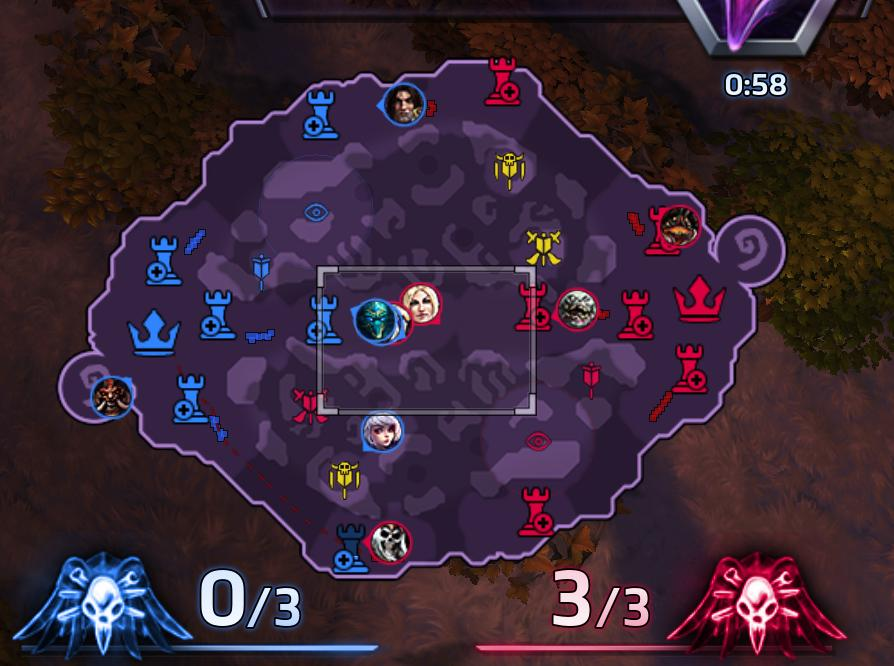blue nexus: (126, 306, 181, 356)
blue player: (352, 298, 407, 346), (377, 81, 426, 128), (91, 374, 133, 420), (360, 410, 403, 452)
blue tower: (328, 514, 372, 582), (168, 371, 214, 429), (143, 233, 184, 287), (198, 287, 237, 341), (304, 292, 343, 346), (301, 87, 339, 141)
red nexus: (671, 274, 725, 324)
red player: (367, 520, 412, 565), (656, 204, 700, 249), (554, 287, 599, 331), (398, 282, 441, 326)
red tower: (483, 55, 521, 108), (616, 287, 653, 341), (517, 485, 555, 537), (670, 342, 708, 394), (515, 280, 550, 331)
